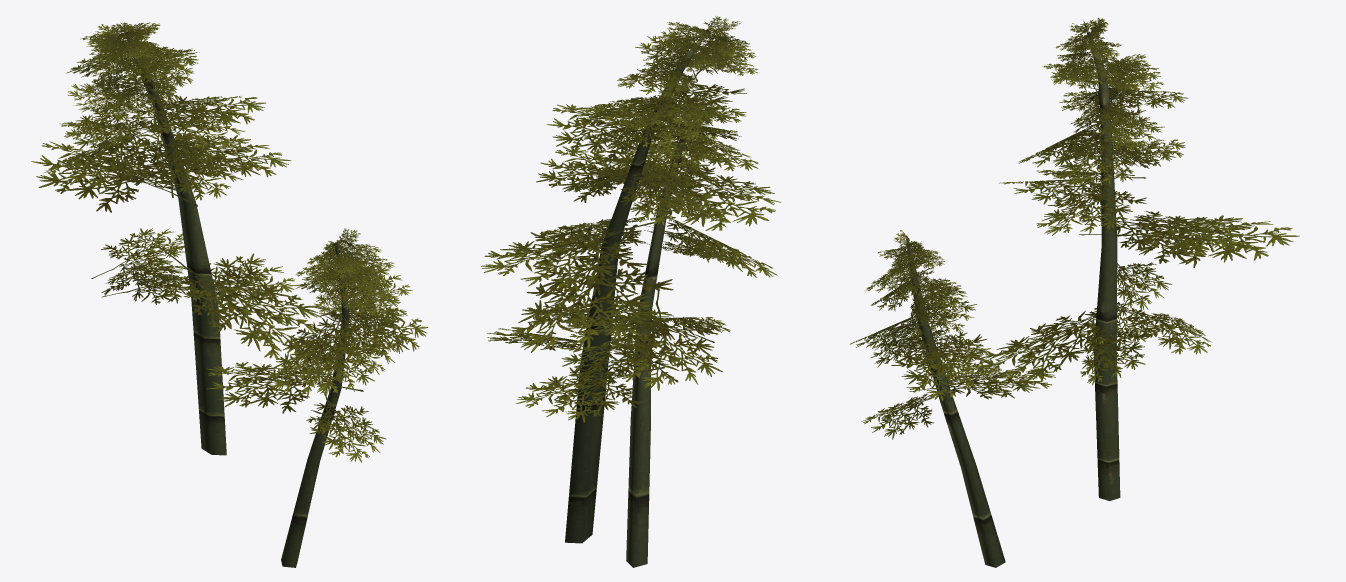
The model's file is Area_03_17.fbx.
3 views of the same model, side by side, from view 1: azimuth 30°, elevation 25°; view 2: azimuth 150°, elevation 25°; view 3: azimuth 270°, elevation 25° (orthographic). The views are drawn at different scales.
Parts seen in each view (by area): view 1: Area_03_17; view 2: Area_03_17; view 3: Area_03_17.
Part boxes in pixels (left/top/right/bottom): Area_03_17: left=31, top=22, right=428, bottom=567; Area_03_17: left=481, top=16, right=781, bottom=567; Area_03_17: left=850, top=18, right=1299, bottom=567.
Bounding box in the file's own units: 1172 × 1792 × 1649.
